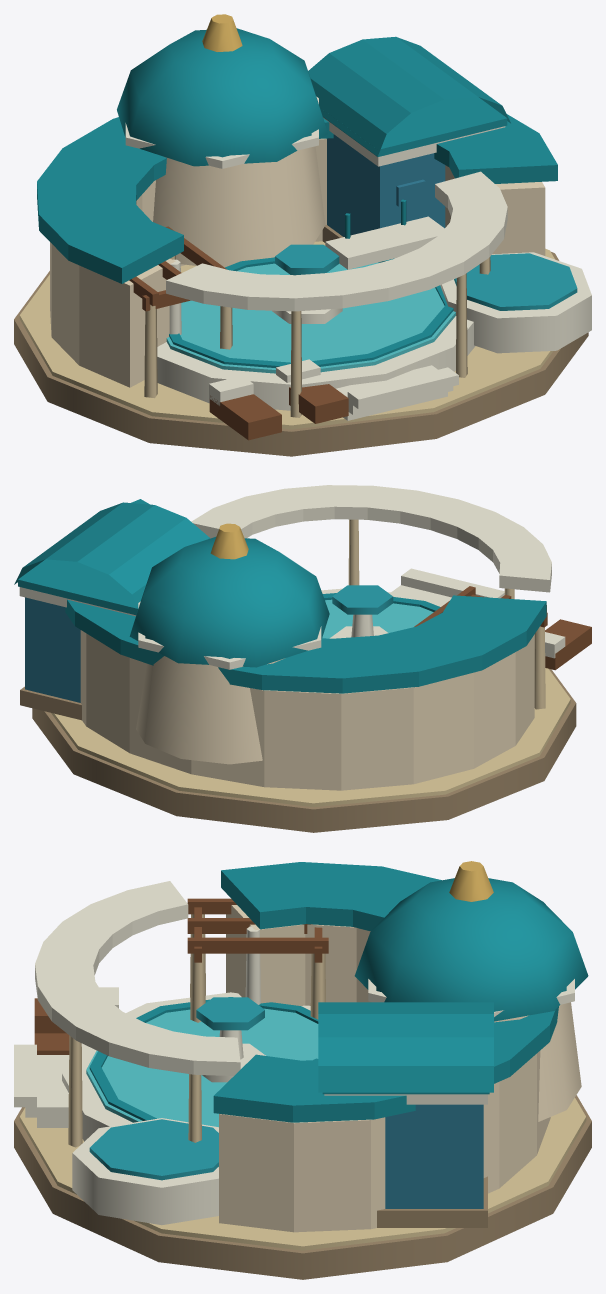
Rendered from recovery-center-lv5.glb.
3 renders of one model, top to bottom at view 1: azimuth 30°, elevation 25°; view 2: azimuth 150°, elevation 25°; view 3: azimuth 270°, elevation 25°, orthographic. The views are drawn at different scales.
Parts seen in each view (by area): view 1: crescent_roof_aqua, recovery_dome_aqua, pool_canopy_white, foundation_stoneDark, recovery_pavilion_cream, crescent_bathhouse_cream, water_pool, rehabilitation_roof_aqua, foundation_sand, rehabilitation_hall_glass, pool_terrace_white, raised_pool_white (+15 smaller); view 2: crescent_bathhouse_cream, crescent_roof_aqua, recovery_dome_aqua, foundation_stoneDark, pool_canopy_white, foundation_sand, recovery_pavilion_cream, rehabilitation_roof_aqua, rehabilitation_hall_glass, rehabilitation_hall_roof_aqua, pool_steps_white, water_pool (+8 smaller); view 3: crescent_bathhouse_cream, recovery_dome_aqua, crescent_roof_aqua, foundation_stoneDark, pool_canopy_white, rehabilitation_roof_aqua, foundation_sand, rehabilitation_hall_glass, water_pool, raised_pool_white, side_water_water, recovery_pergola_wood (+13 smaller).
Part boxes in pixels (x1=…): crescent_roof_aqua: x1=37, y1=114, x2=557, y2=283; recovery_dome_aqua: x1=117, y1=28, x2=327, y2=166; pool_canopy_white: x1=166, y1=171, x2=507, y2=311; foundation_stoneDark: x1=14, y1=252, x2=588, y2=456; recovery_pavilion_cream: x1=153, y1=146, x2=325, y2=267; crescent_bathhouse_cream: x1=50, y1=138, x2=545, y2=387; water_pool: x1=166, y1=262, x2=455, y2=373; rehabilitation_roof_aqua: x1=308, y1=36, x2=510, y2=156; foundation_sand: x1=19, y1=241, x2=554, y2=429; rehabilitation_hall_glass: x1=327, y1=134, x2=445, y2=236; pool_terrace_white: x1=157, y1=258, x2=475, y2=410; raised_pool_white: x1=440, y1=252, x2=591, y2=353; crescent_bathhouse_cream: x1=80, y1=630, x2=534, y2=790; crescent_roof_aqua: x1=65, y1=499, x2=546, y2=693; recovery_dome_aqua: x1=129, y1=537, x2=329, y2=667; foundation_stoneDark: x1=32, y1=669, x2=576, y2=832; pool_canopy_white: x1=191, y1=485, x2=551, y2=592; foundation_sand: x1=51, y1=668, x2=570, y2=807; recovery_pavilion_cream: x1=136, y1=656, x2=284, y2=764; rehabilitation_roof_aqua: x1=14, y1=502, x2=209, y2=608; rehabilitation_hall_glass: x1=25, y1=597, x2=80, y2=702; rehabilitation_hall_roof_aqua: x1=18, y1=559, x2=137, y2=615; pool_steps_white: x1=391, y1=568, x2=504, y2=602; water_pool: x1=322, y1=599, x2=433, y2=638; crescent_bathhouse_cream: x1=219, y1=905, x2=550, y2=1232; recovery_dome_aqua: x1=354, y1=878, x2=588, y2=1021; crescent_roof_aqua: x1=213, y1=862, x2=558, y2=1122; foundation_stoneDark: x1=14, y1=1095, x2=591, y2=1279; pool_canopy_white: x1=35, y1=881, x2=240, y2=1075; rehabilitation_roof_aqua: x1=318, y1=1002, x2=493, y2=1092; foundation_sand: x1=19, y1=1098, x2=586, y2=1250; rehabilitation_hall_glass: x1=385, y1=1104, x2=483, y2=1208; water_pool: x1=86, y1=1008, x2=318, y2=1127; raised_pool_white: x1=72, y1=1118, x2=218, y2=1225; side_water_water: x1=89, y1=1119, x2=218, y2=1180; recovery_pergola_wood: x1=187, y1=898, x2=328, y2=962.
Bounding box in the file's own units: 1 × 0.4959 × 0.9231.
